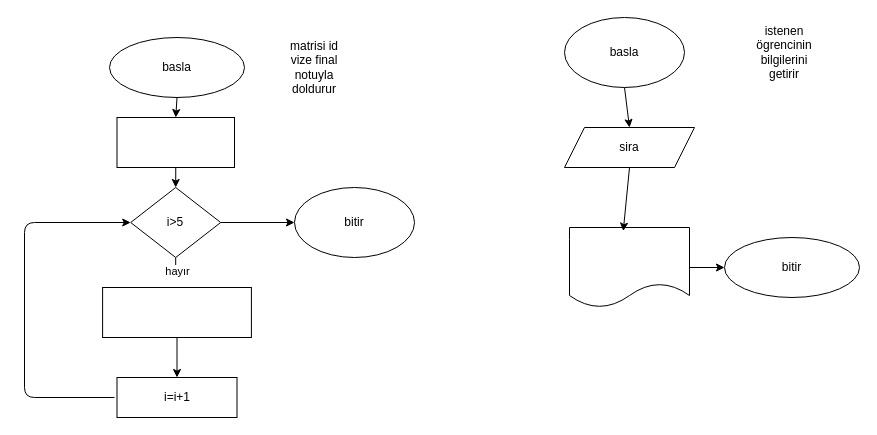
Image size: 877x435. Some labels were removed from this diagram. Each missing label, with the centre of its shape:
"matris[5][3]" goes at (x=175, y=142).
"matris[i][0]=id matris[i][1]=vize matris[i][2]=final" goes at (x=176, y=312).
"matris[sira]" goes at (x=629, y=267).
